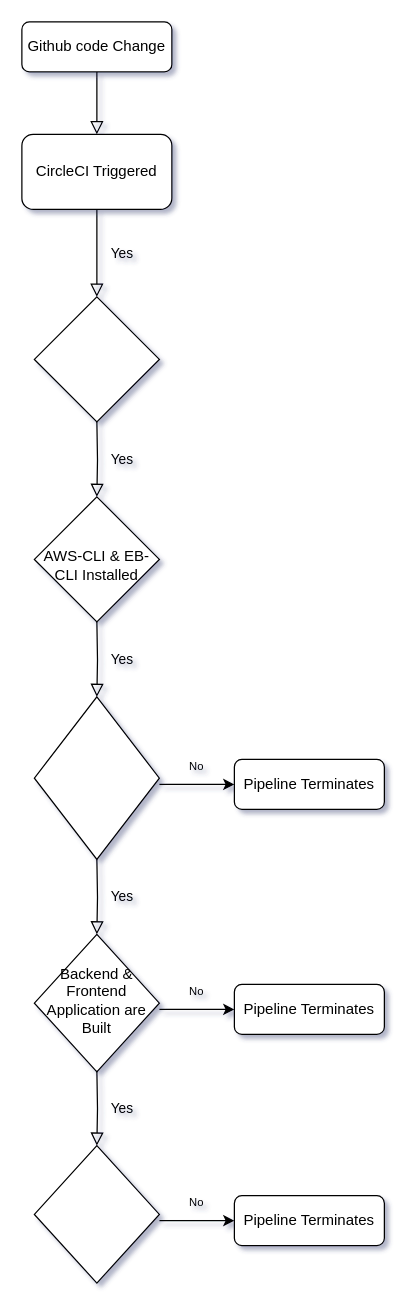
Some shapes in this 414 by 1313 pixel diagram are drawn without their labels. Here are the shapes that lost their labels. From the top down, the box of each, then its label:
(33, 296, 159, 422): NodeJS & NPM Installed
(33, 696, 159, 859): Backend & Frontend Dependencies Installed
(33, 1144, 159, 1283): Backend & Frontend Application are Deployed
